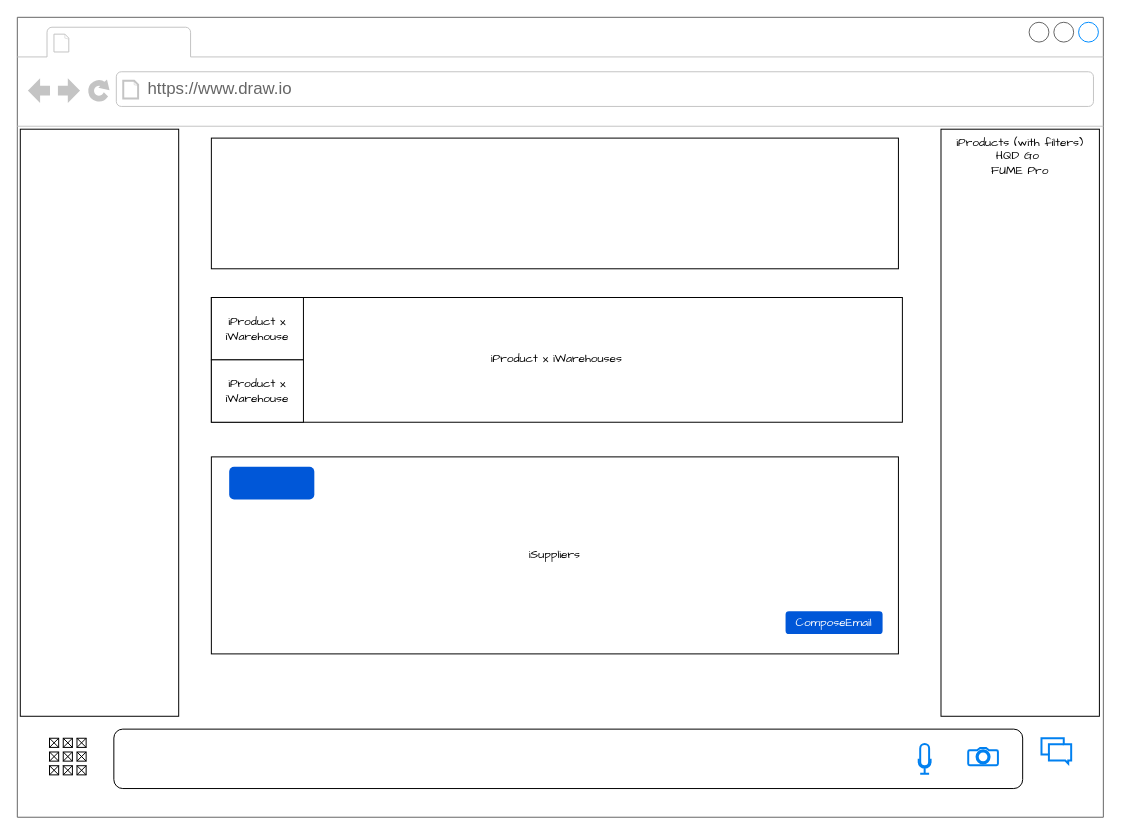
Some shapes in this 1121 by 835 pixel diagram are drawn without their labels. The shapes that lost their labels are listed below. From the top down, each one's centre as x and y in pixels, then its label:
At (131,41): "Page 1".
At (554,203): "iProduct".
At (271,482): "heySupplier".
At (1056,750): "heynexa".
